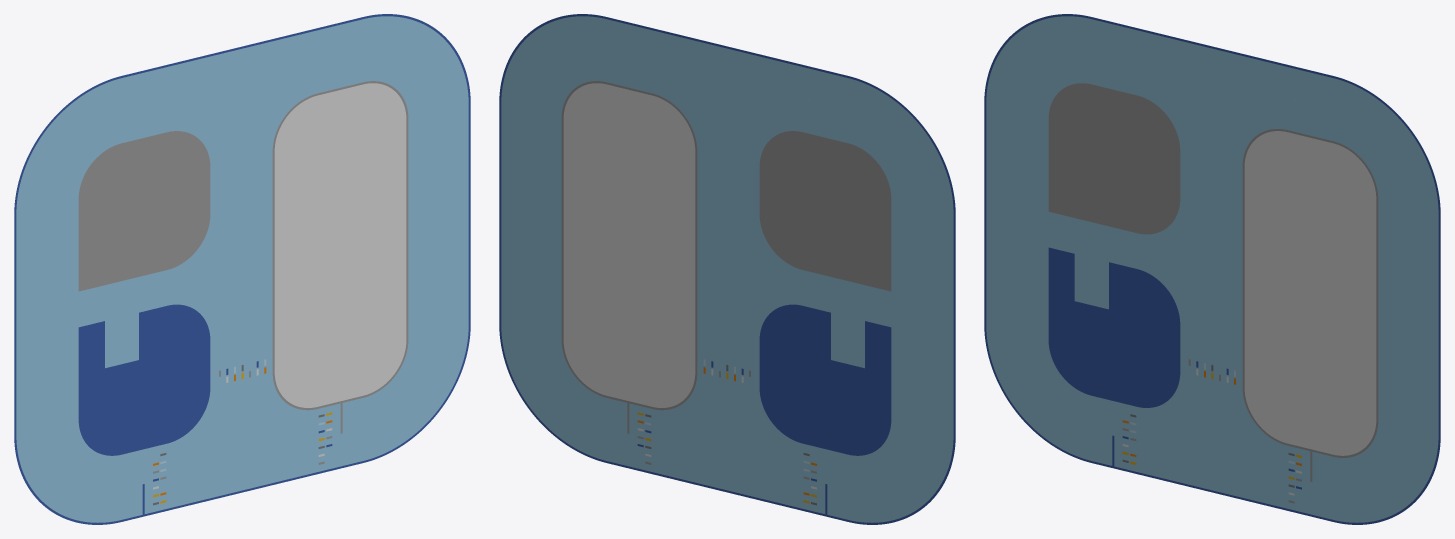
The model's file is rvs_map1.obj.
3 views of the same model, side by side, from view 1: azimuth 30°, elevation 25°; view 2: azimuth 150°, elevation 25°; view 3: azimuth 330°, elevation 25° (orthographic).
Visible parts, largest first — view 1: mesh42, mesh20, mesh10, mesh33, mesh618, mesh545, mesh590, mesh558; view 2: mesh43, mesh21, mesh11, mesh34, mesh619, mesh546, mesh591, mesh559; view 3: mesh42, mesh20, mesh10, mesh33, mesh618, mesh545, mesh590, mesh558.
Boxes of the visible parts, x1,y1,x2,y2 form: mesh42: (16,16,468,522); mesh20: (274,83,406,407); mesh10: (78,131,210,291); mesh33: (78,304,210,455); mesh618: (14,14,470,524); mesh545: (45,47,439,491); mesh590: (76,129,212,457); mesh558: (272,81,408,433); mesh43: (501,16,953,522); mesh21: (563,83,695,407); mesh11: (759,131,891,291); mesh34: (759,304,891,455); mesh619: (499,14,955,524); mesh546: (530,47,924,491); mesh591: (757,129,893,457); mesh559: (561,81,697,433); mesh42: (986,16,1438,522); mesh20: (1244,131,1376,455); mesh10: (1048,83,1180,234); mesh33: (1048,247,1180,407); mesh618: (984,14,1440,524); mesh545: (1015,47,1409,491); mesh590: (1046,81,1182,410); mesh558: (1242,129,1378,481).
Size of the model in its own units: 4.54 by 4.24 by 0.002.
